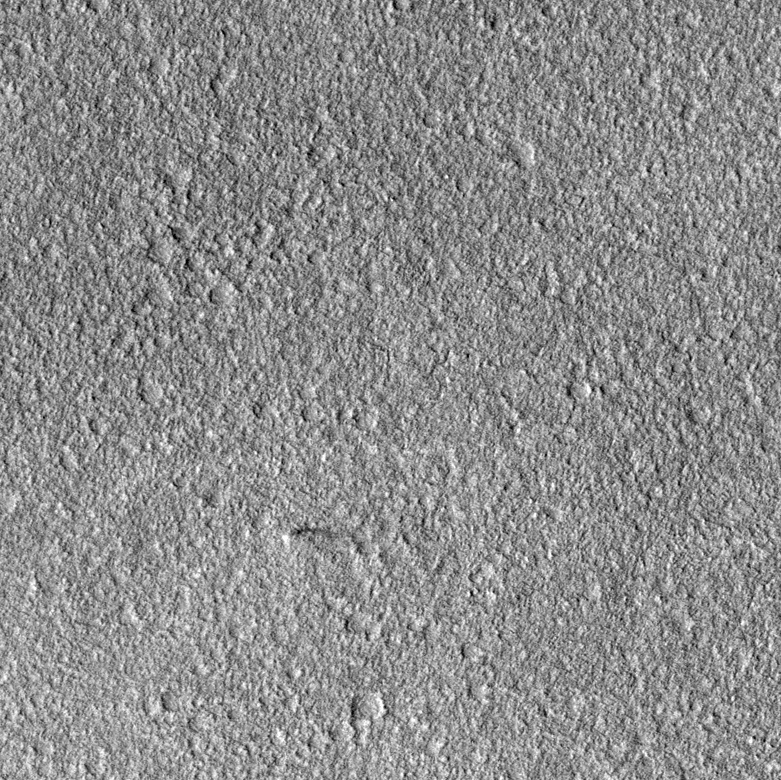dust_devil: (280, 525, 341, 555)
